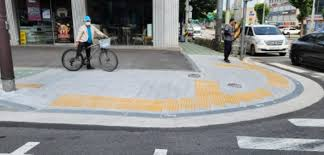guide_blocks: (54, 94, 236, 109), (239, 88, 271, 103), (262, 72, 287, 88), (194, 78, 218, 93), (221, 63, 261, 70)
